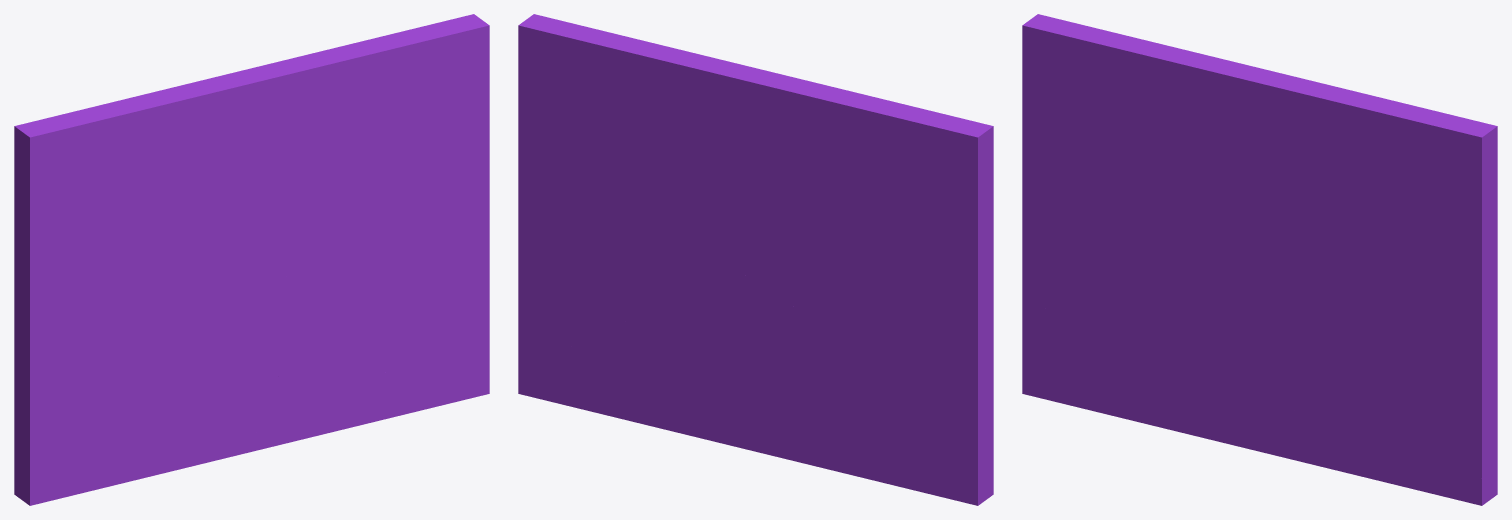
The model's file is Barrier_159_chunks.fbx.
3 views of the same model, side by side, from view 1: azimuth 30°, elevation 25°; view 2: azimuth 150°, elevation 25°; view 3: azimuth 330°, elevation 25° (orthographic).
Visible parts, largest first — view 1: Barrier_159_1, Barrier_159_2, Barrier_159_3, Barrier_159_6, Barrier_159_4, Barrier_159_5; view 2: Barrier_159_2, Barrier_159_1, Barrier_159_0, Barrier_159_3, Barrier_159_4, Barrier_159_6; view 3: Barrier_159_2, Barrier_159_1, Barrier_159_3, Barrier_159_6, Barrier_159_4, Barrier_159_5.
Boxes of the visible parts, x1=… form: Barrier_159_1: x1=14, y1=70, x2=271, y2=424; Barrier_159_2: x1=243, y1=14, x2=489, y2=367; Barrier_159_3: x1=14, y1=308, x2=234, y2=505; Barrier_159_6: x1=206, y1=267, x2=477, y2=380; Barrier_159_4: x1=230, y1=362, x2=489, y2=456; Barrier_159_5: x1=195, y1=370, x2=311, y2=465; Barrier_159_2: x1=518, y1=14, x2=751, y2=369; Barrier_159_1: x1=749, y1=67, x2=993, y2=413; Barrier_159_0: x1=738, y1=157, x2=983, y2=424; Barrier_159_3: x1=767, y1=310, x2=993, y2=505; Barrier_159_4: x1=518, y1=355, x2=815, y2=466; Barrier_159_6: x1=551, y1=271, x2=799, y2=379; Barrier_159_2: x1=1258, y1=70, x2=1497, y2=479; Barrier_159_1: x1=1022, y1=14, x2=1266, y2=312; Barrier_159_3: x1=1022, y1=281, x2=1226, y2=433; Barrier_159_6: x1=1198, y1=270, x2=1469, y2=468; Barrier_159_4: x1=1223, y1=406, x2=1497, y2=505; Barrier_159_5: x1=1187, y1=358, x2=1303, y2=442.
Size of the model in its own units: 376 by 288 by 22.1.
